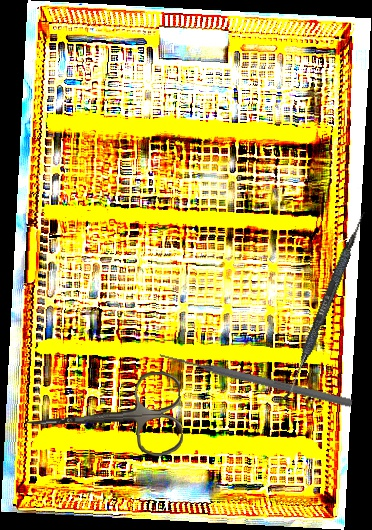Iris Scissors: (23, 370, 184, 464)
Pusher: (156, 348, 354, 410)
Spatula Surgical: (282, 208, 368, 404)
